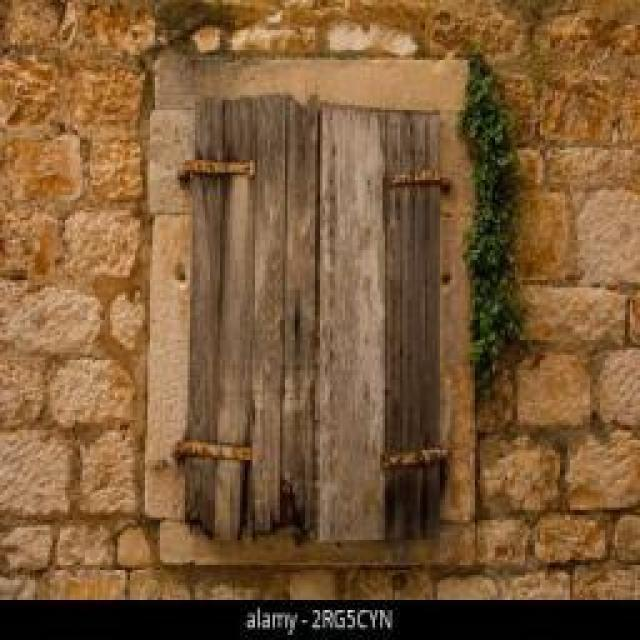Crack: (1, 1, 638, 600)
